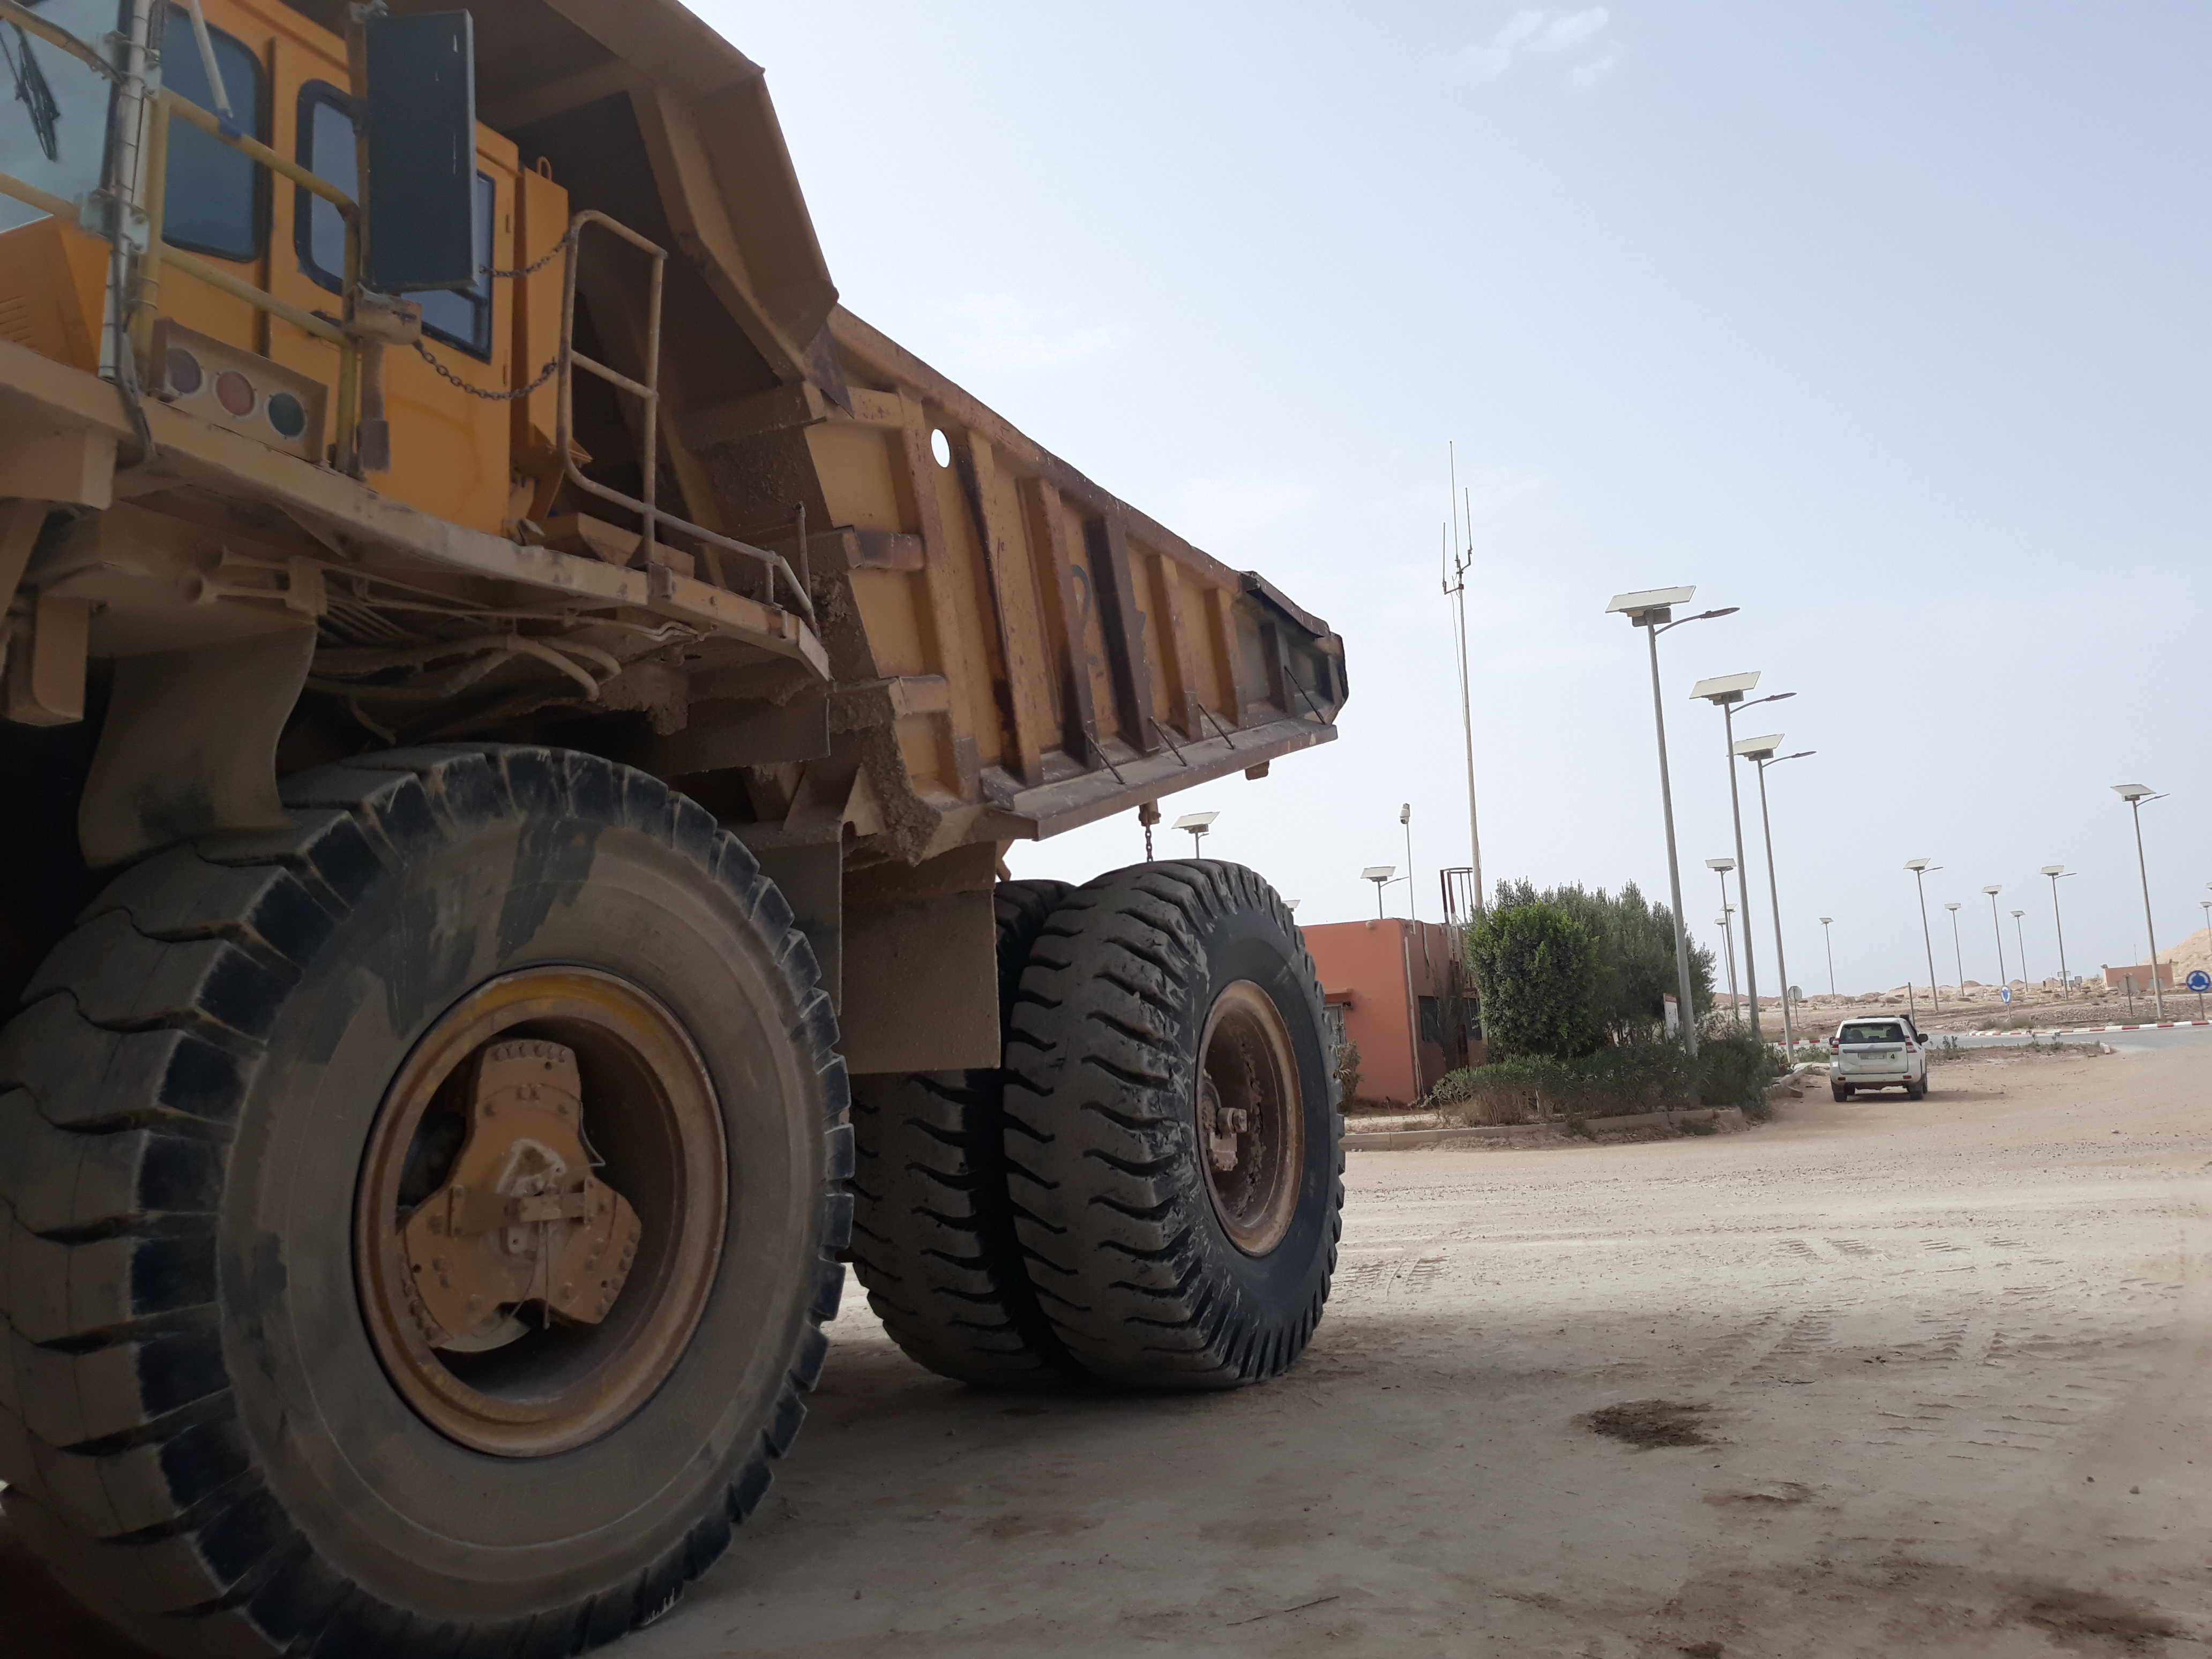camion: (2, 0, 1369, 1649)
car: (1794, 999, 1958, 1127)
